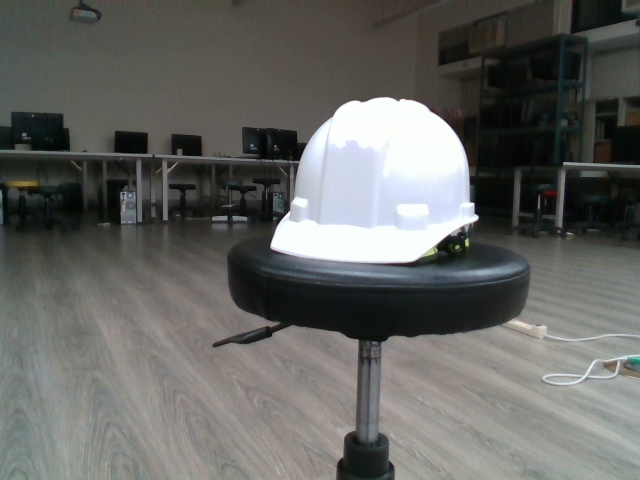helmet: (268, 93, 479, 267)
